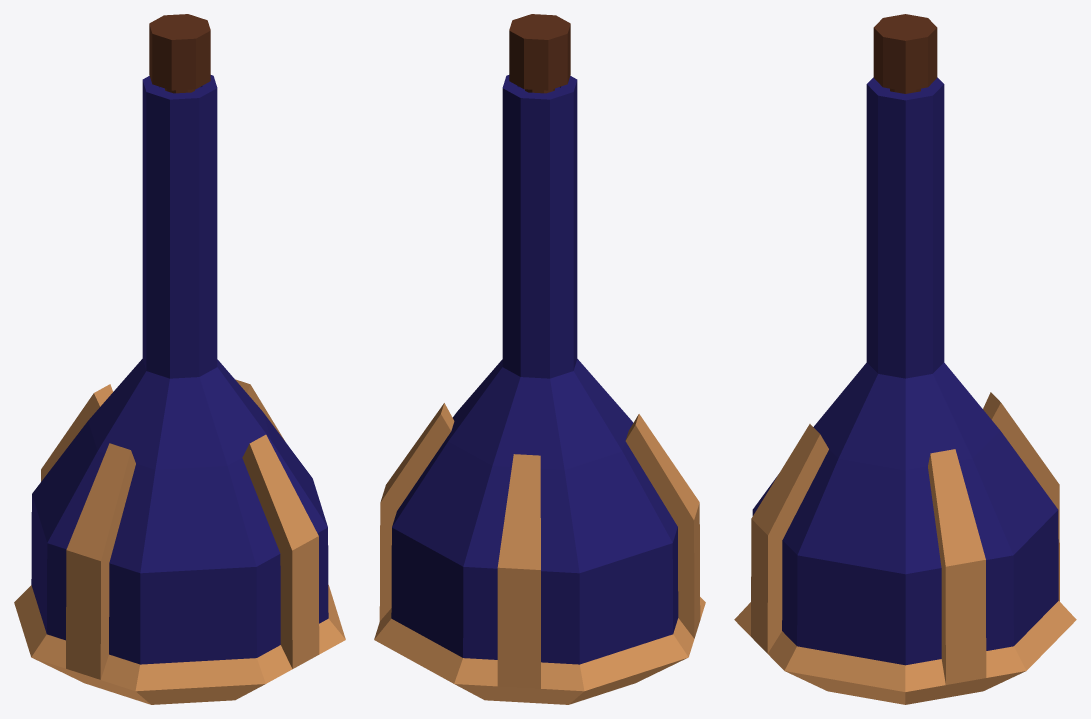
Rendered from Potion.glb.
The picture shows the model from 3 angles, left to right: view 1: azimuth 30°, elevation 25°; view 2: azimuth 150°, elevation 25°; view 3: azimuth 270°, elevation 25°; orthographic projection.
Parts seen in each view (by area): view 1: Potion; view 2: Potion; view 3: Potion.
Boxes of the visible parts, x1,y1,x2,y2 form: Potion: (14,14,345,704); Potion: (374,14,705,704); Potion: (734,14,1076,704).
Size of the model in its own units: 0.5738 by 1.17 by 0.5738.
